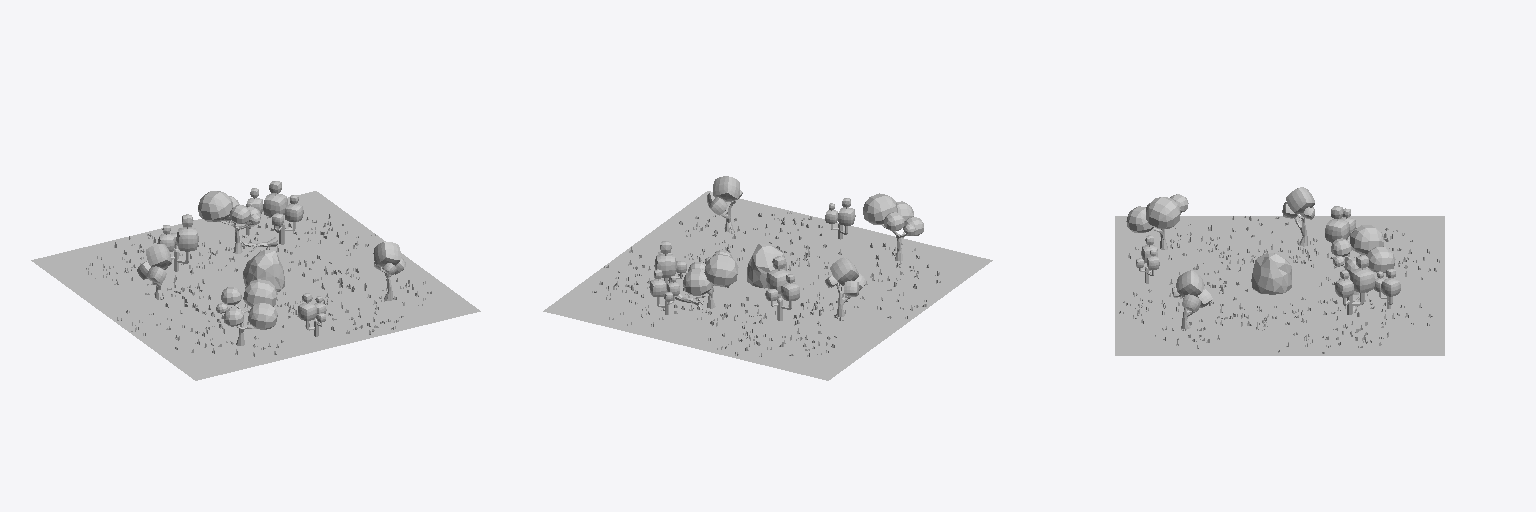
Rendered from level.obj.
3 views of the same model, side by side, from view 1: azimuth 30°, elevation 25°; view 2: azimuth 150°, elevation 25°; view 3: azimuth 270°, elevation 25° (orthographic).
Visible parts, largest first — view 1: Plane.001_Plane.010, Tree.034_Circle.024, Tree.029_Circle.009, Tree.030_Circle.020, Stone.016_Icosphere.002, Tree.033_Circle.023, Tree.028_Circle.008, Tree.035_Circle.025, Tree.027_Circle.007; view 2: Plane.001_Plane.010, Tree.034_Circle.024, Tree.029_Circle.009, Tree.033_Circle.023, Tree.028_Circle.008, Tree.035_Circle.025, Stone.016_Icosphere.002, Tree.030_Circle.020, Tree.036_Circle.026, Tree.027_Circle.007; view 3: Plane.001_Plane.010, Tree.029_Circle.009, Tree.034_Circle.024, Stone.016_Icosphere.002, Tree.030_Circle.020, Tree.035_Circle.025, Tree.028_Circle.008, Tree.033_Circle.023, Tree.036_Circle.026, Tree.027_Circle.007.
Part boxes in pixels (x1,y1,x2,y2): Plane.001_Plane.010: (31, 191, 480, 380); Tree.034_Circle.024: (216, 279, 277, 345); Tree.029_Circle.009: (198, 191, 260, 253); Tree.030_Circle.020: (263, 181, 303, 244); Stone.016_Icosphere.002: (243, 250, 284, 291); Tree.033_Circle.023: (158, 214, 198, 271); Tree.028_Circle.008: (137, 244, 171, 299); Tree.035_Circle.025: (373, 242, 405, 300); Tree.027_Circle.007: (298, 293, 326, 336); Plane.001_Plane.010: (543, 191, 992, 380); Tree.034_Circle.024: (863, 193, 923, 260); Tree.029_Circle.009: (683, 250, 738, 308); Tree.033_Circle.023: (765, 256, 799, 320); Tree.028_Circle.008: (825, 257, 866, 316); Tree.035_Circle.025: (707, 176, 742, 232); Stone.016_Icosphere.002: (747, 243, 786, 288); Tree.030_Circle.020: (654, 241, 686, 285); Tree.036_Circle.026: (649, 269, 679, 314); Tree.027_Circle.007: (825, 198, 855, 239); Plane.001_Plane.010: (1115, 216, 1444, 355); Tree.029_Circle.009: (1331, 225, 1395, 294); Tree.034_Circle.024: (1126, 194, 1188, 249); Stone.016_Icosphere.002: (1251, 253, 1291, 294); Tree.030_Circle.020: (1335, 255, 1374, 314); Tree.035_Circle.025: (1172, 270, 1212, 329); Tree.028_Circle.008: (1282, 187, 1314, 246); Tree.033_Circle.023: (1325, 206, 1355, 262); Tree.036_Circle.026: (1374, 269, 1400, 308); Tree.027_Circle.007: (1136, 235, 1159, 283).
Bounding box in the file's own units: 40 × 8.33 × 40.